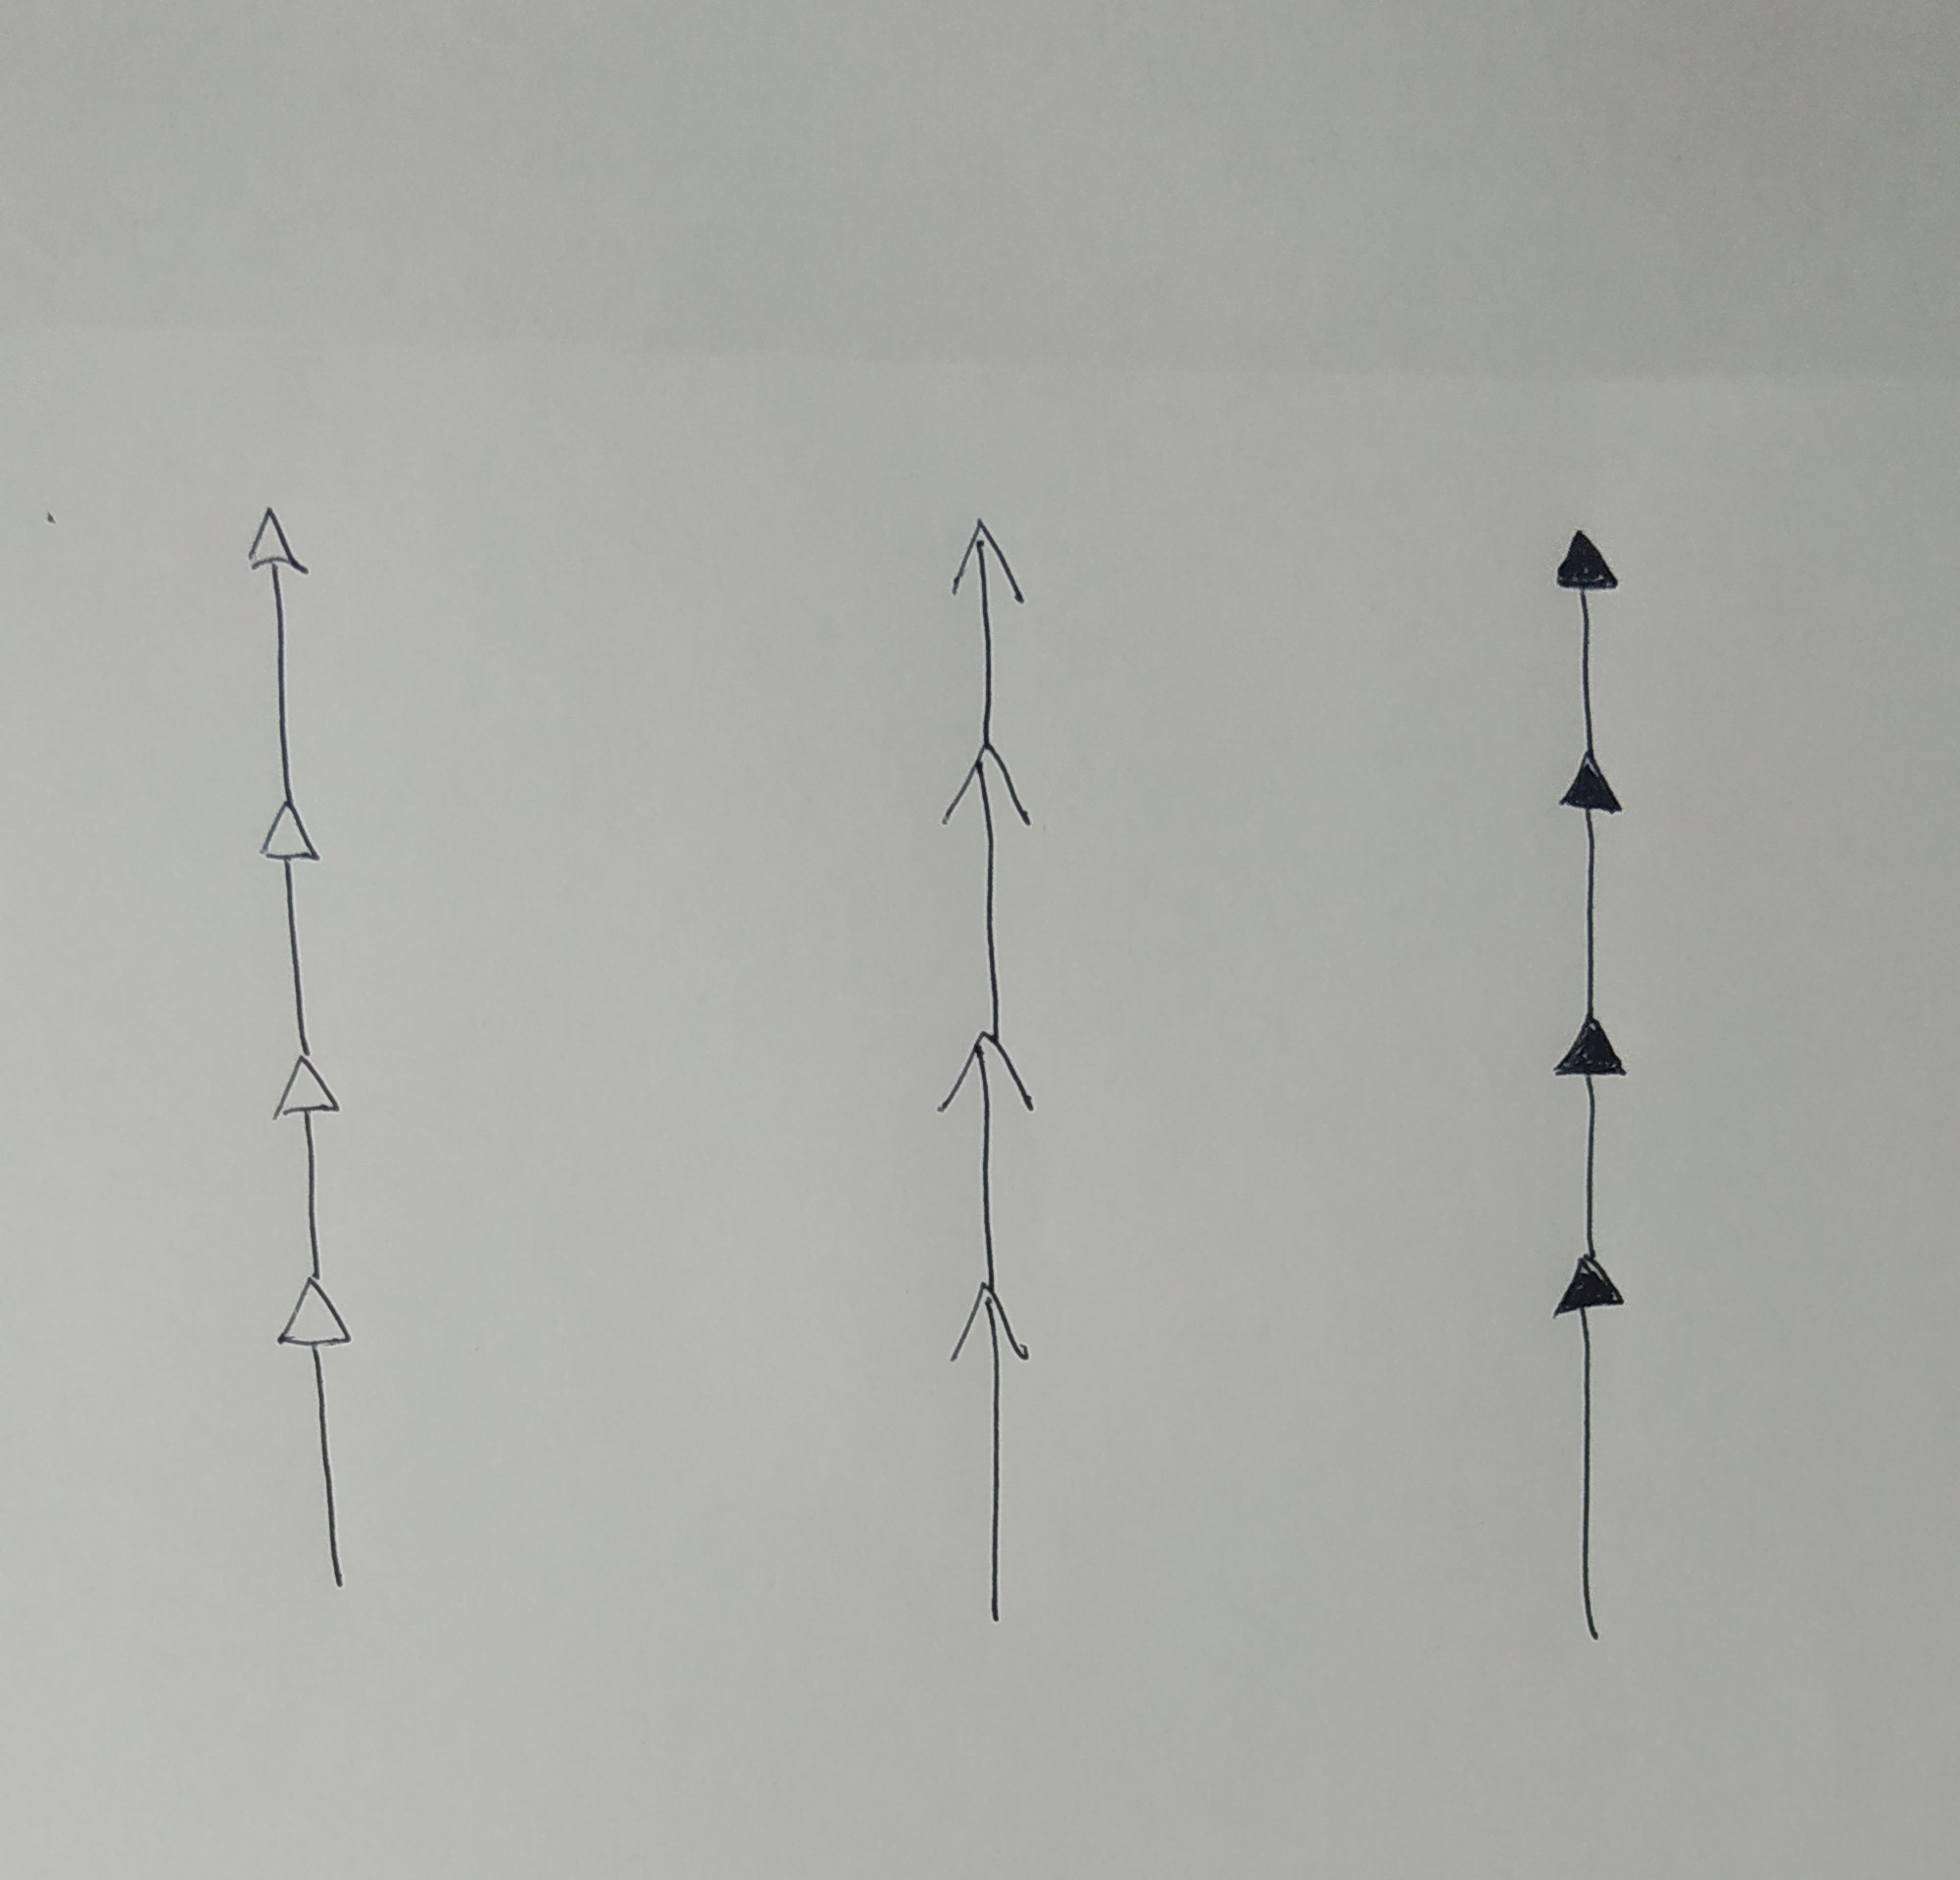arrow_line_up: (933, 1281, 1039, 1630), (1545, 1253, 1629, 1642), (933, 746, 1039, 1042), (929, 1031, 1043, 1294), (268, 1276, 357, 1605), (231, 497, 325, 803), (938, 518, 1036, 742), (252, 805, 332, 1063), (1554, 756, 1631, 1022), (1549, 1022, 1631, 1259), (1545, 532, 1627, 751), (271, 1059, 347, 1285)
